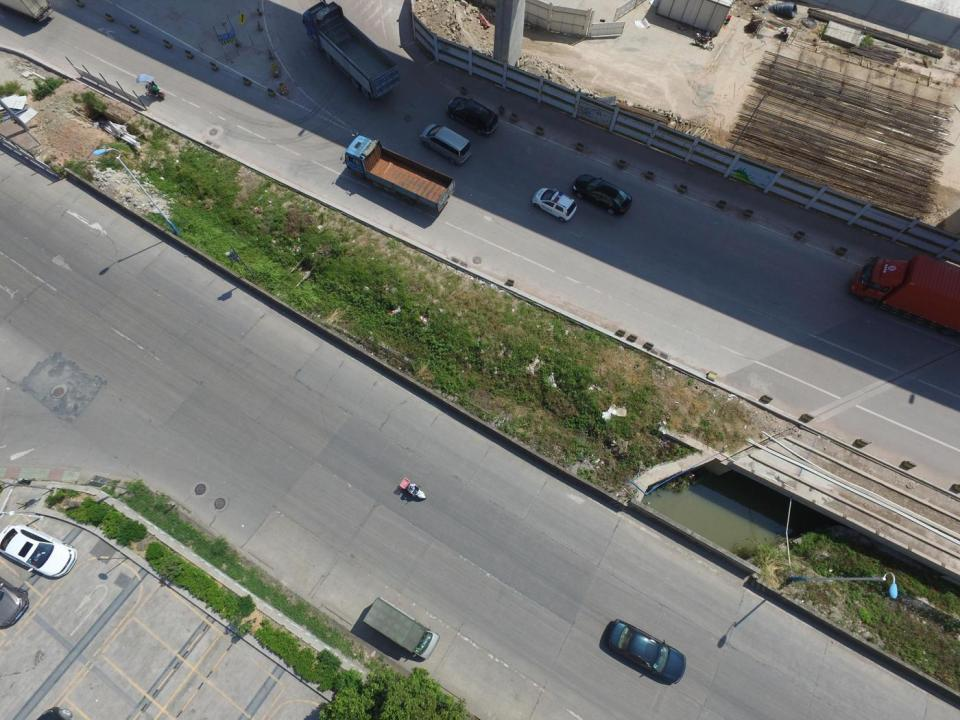car: (605, 618, 687, 682), (0, 524, 78, 575), (572, 172, 633, 216), (446, 95, 500, 136), (0, 573, 29, 627), (535, 189, 577, 223)
van: (302, 0, 401, 99), (847, 255, 960, 333), (346, 134, 460, 210), (363, 598, 439, 658), (422, 120, 474, 164), (0, 0, 53, 24)
